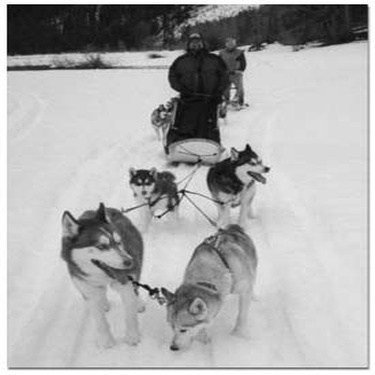dog: (47, 198, 157, 362), (152, 218, 268, 361), (199, 143, 276, 235), (113, 165, 188, 253), (208, 88, 252, 132), (140, 110, 175, 151), (156, 88, 195, 122)
